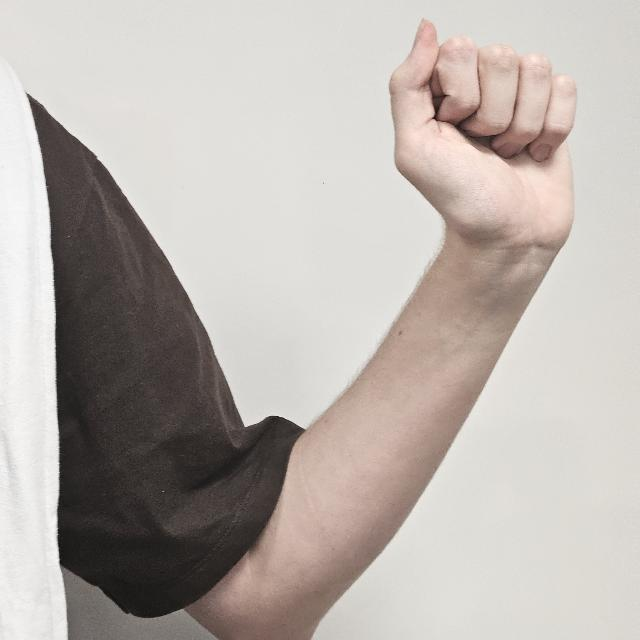Quadro: (390, 13, 582, 261)
